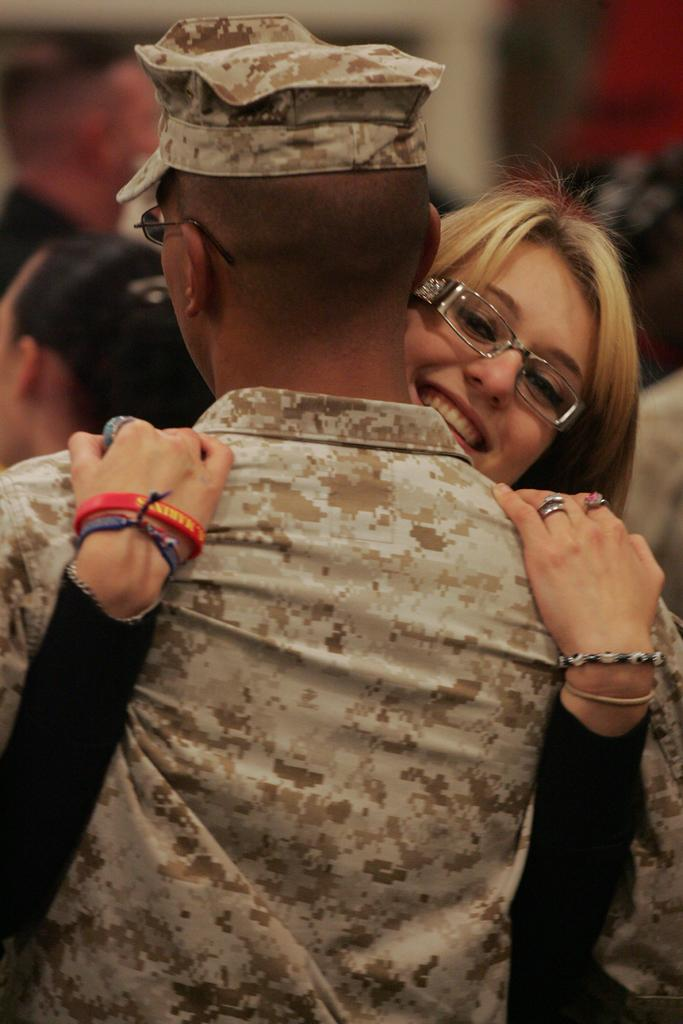Hat: (116, 12, 449, 204)
